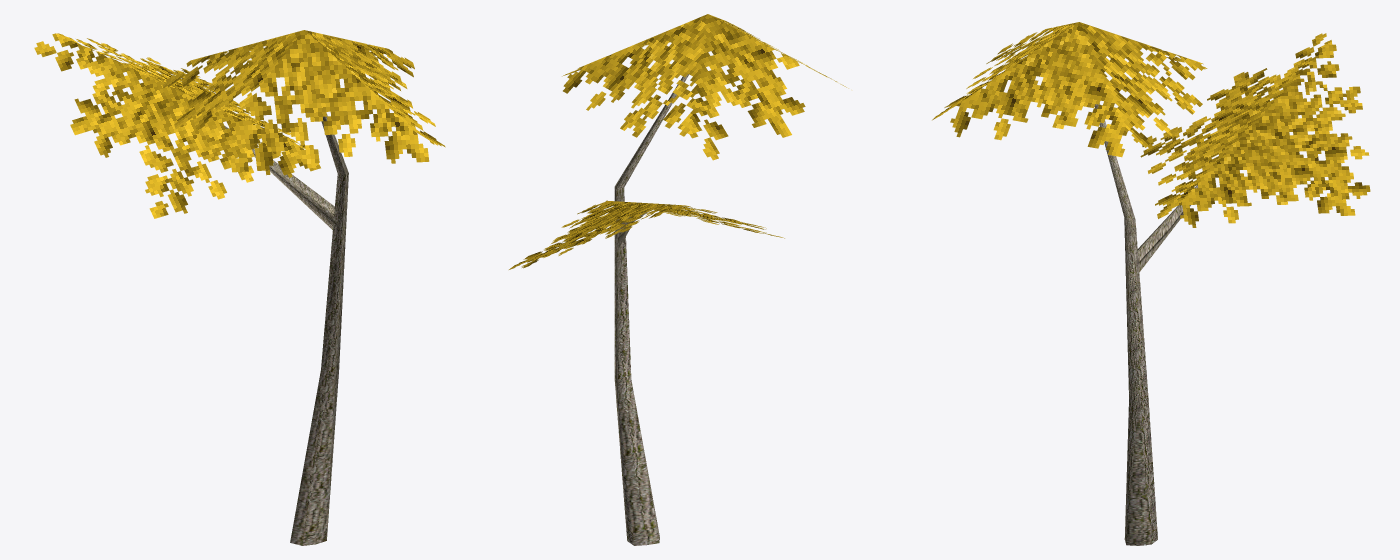
Rendered from tree_sapling.fbx.
The picture shows the model from 3 angles, left to right: view 1: azimuth 30°, elevation 25°; view 2: azimuth 150°, elevation 25°; view 3: azimuth 270°, elevation 25°; orthographic projection. The views are drawn at different scales.
Parts seen in each view (by area): view 1: tree_sapling; view 2: tree_sapling; view 3: tree_sapling.
Boxes of the visible parts, left/top/right/bottom form: tree_sapling: left=34, top=30, right=445, bottom=545; tree_sapling: left=509, top=14, right=848, bottom=545; tree_sapling: left=932, top=22, right=1370, bottom=545.
Size of the model in its own units: 266 by 441 by 375.
